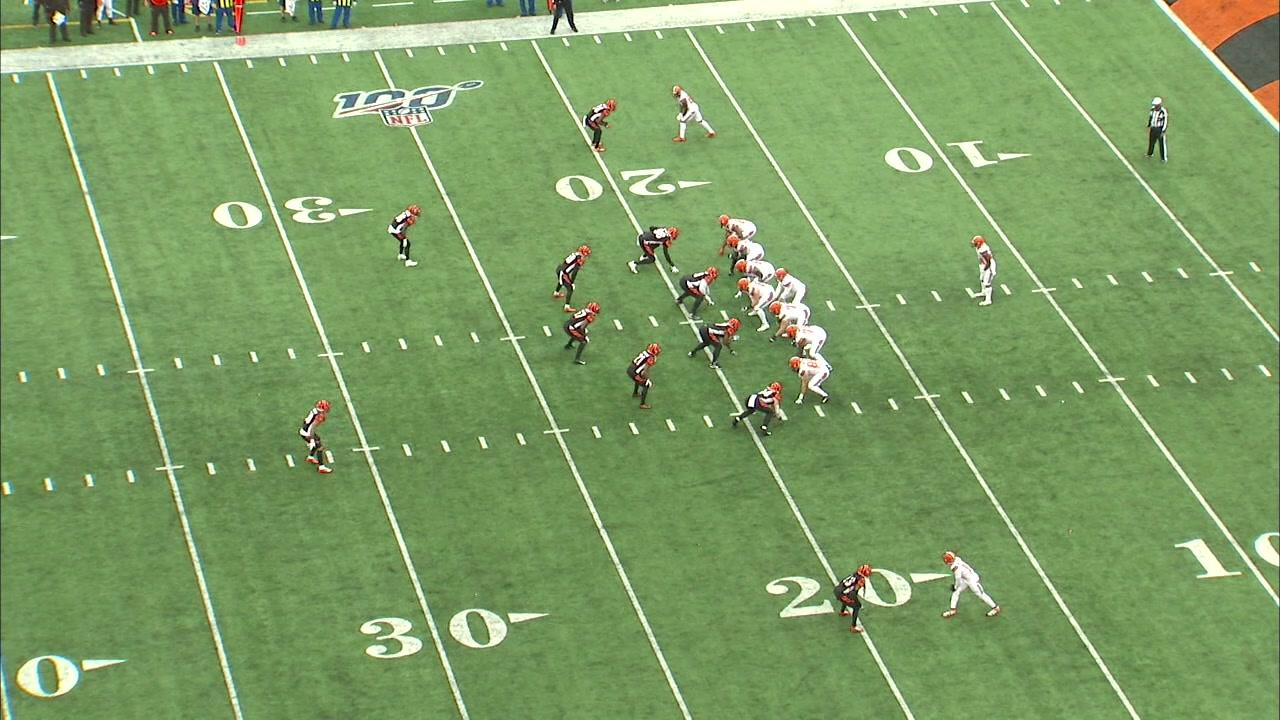defense: (829, 561, 878, 637), (731, 375, 787, 439), (684, 314, 743, 374), (295, 397, 336, 479), (550, 242, 594, 314), (626, 220, 681, 277), (561, 300, 604, 370), (673, 262, 720, 322), (625, 341, 663, 412), (387, 202, 425, 270), (580, 97, 618, 153)
oline: (785, 321, 835, 373), (736, 275, 779, 333), (723, 232, 766, 282), (734, 254, 776, 302), (769, 299, 810, 344)
qb: (771, 267, 807, 310)
ref: (1140, 94, 1175, 167)
skill: (938, 546, 1002, 621), (666, 83, 719, 144), (968, 234, 1000, 311), (788, 355, 834, 406), (713, 212, 758, 259)
